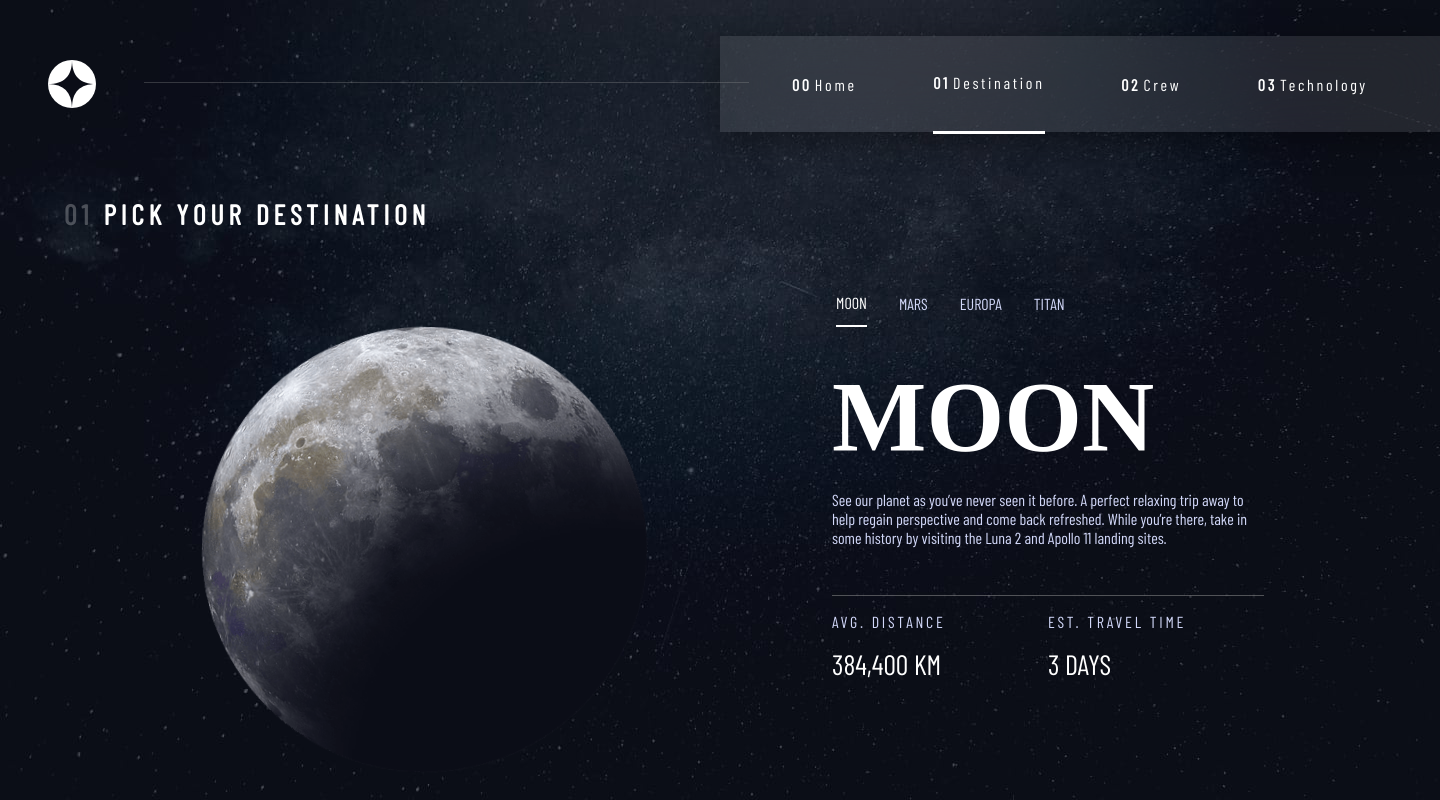
Test case: Test destination navigation › Travel time should be 3 years
This screenshot has width=1440, height=800.
Step 1. Click the text "EUROPA" → (981, 304), box [960,294,1002,313]
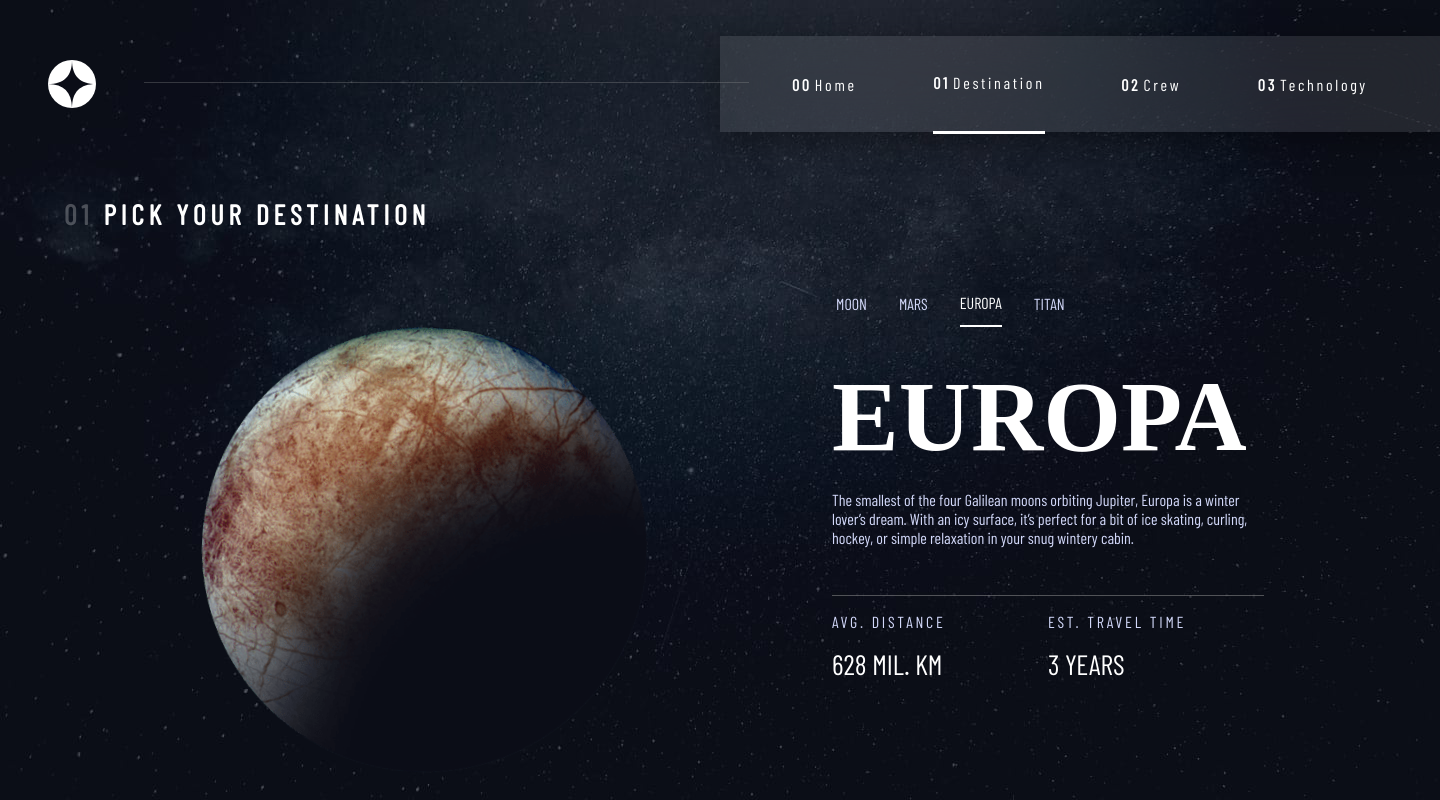
Result: the text "3 years" is shown at [1048,647,1125,681]
